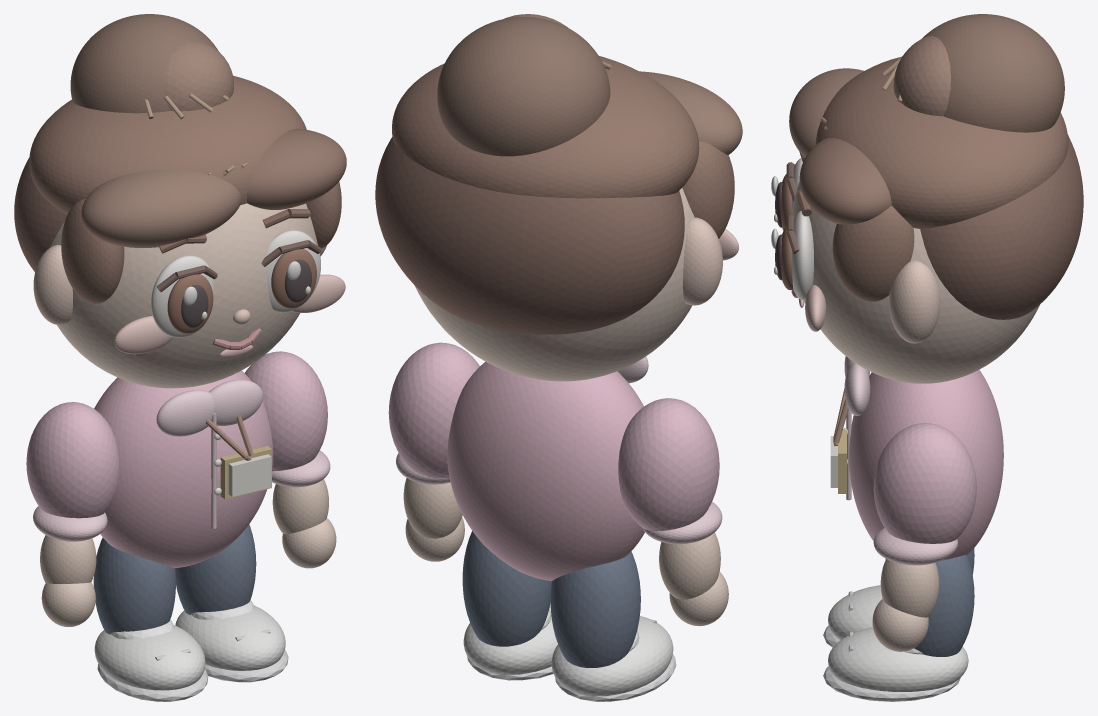
File: salary-keeper-a.glb
3 renders of one model, left to right at view 1: azimuth 30°, elevation 25°; view 2: azimuth 150°, elevation 25°; view 3: azimuth 270°, elevation 25°, orthographic. The views are drawn at different scales.
Parts seen in each view (by area): view 1: head, torso, crown, bang-left, bun, sleeve-1, sleeve1, bang-right, pants-1, shoe-1, shoe1, pants1 (+28 smaller); view 2: hairback, torso, crown, bun, head, sleeve-1, pants-1, sleeve1, pants1, shoe-1, bang-left, sidelock-1 (+8 smaller); view 3: crown, hairback, head, torso, bun, sleeve1, bang-right, shoe1, sidelock1, pants1, bun-center, ear1 (+11 smaller).
Boxes of the visible parts, <box> form: head: <box>50,203,318,388</box>; torso: <box>94,370,273,568</box>; crown: <box>29,75,306,214</box>; bang-left: <box>81,169,241,247</box>; bun: <box>70,14,218,113</box>; sleeve-1: <box>26,402,118,518</box>; sleeve1: <box>245,351,327,471</box>; bang-right: <box>247,128,346,209</box>; pants-1: <box>93,537,175,634</box>; shoe-1: <box>94,625,205,690</box>; shoe1: <box>175,605,285,670</box>; pants1: <box>175,524,256,614</box>; hairback: <box>375,137,684,334</box>; torso: <box>447,361,644,580</box>; crown: <box>392,56,699,198</box>; bun: <box>437,16,610,156</box>; head: <box>415,188,694,381</box>; sleeve-1: <box>618,398,719,531</box>; pants-1: <box>550,551,640,667</box>; sleeve1: <box>388,342,479,478</box>; pants1: <box>462,531,551,646</box>; shoe-1: <box>551,616,673,696</box>; bang-left: <box>640,71,742,154</box>; sidelock-1: <box>682,141,734,238</box>; crown: <box>815,57,1068,228</box>; hairback: <box>920,134,1083,319</box>; head: <box>791,181,1039,383</box>; torso: <box>849,370,1003,560</box>; bun: <box>922,14,1064,132</box>; sleeve1: <box>873,423,976,543</box>; bang-right: <box>799,138,891,224</box>; shoe1: <box>828,627,968,691</box>; sidelock1: <box>832,205,914,301</box>; pants1: <box>914,555,974,656</box>; bun-center: <box>893,35,950,116</box>; ear1: <box>889,260,940,343</box>.
Bounding box in the file's own units: 1.49 × 3.04 × 1.33.
